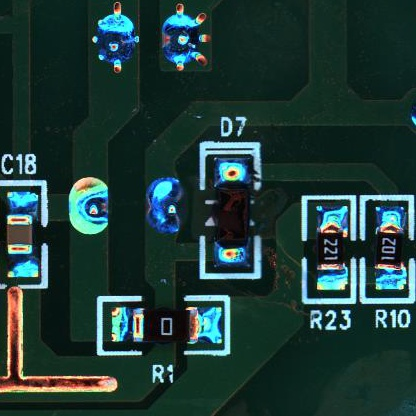spot: (159, 2, 211, 73), (91, 1, 141, 74), (68, 175, 111, 235), (146, 177, 184, 236)
